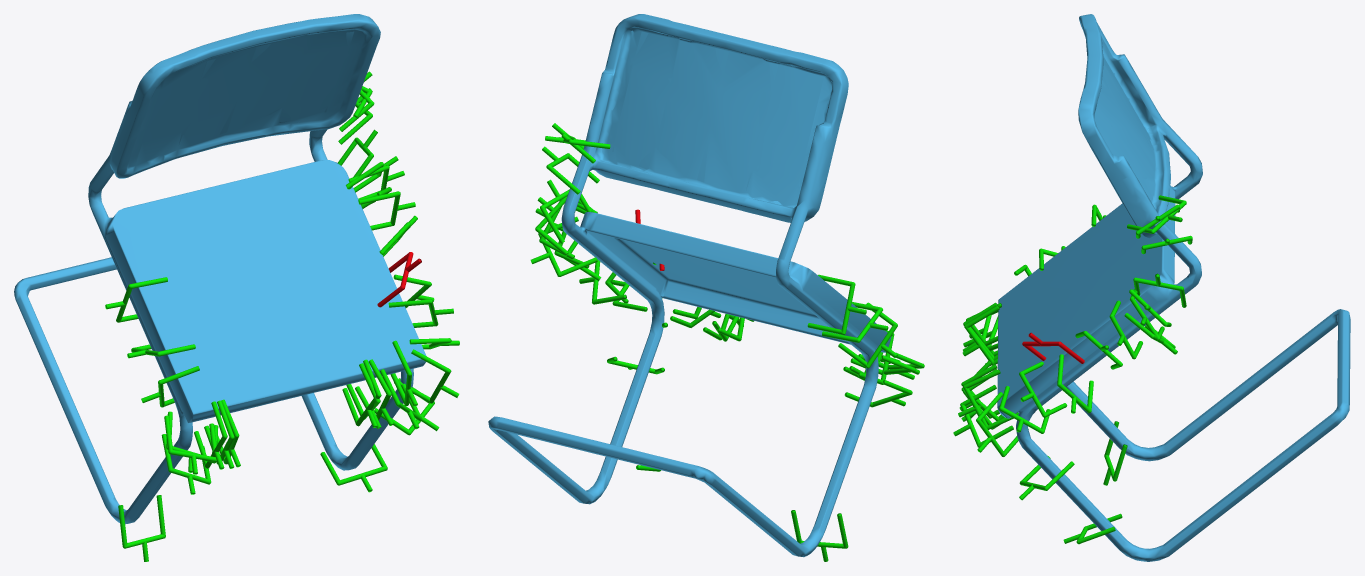
The model's file is ours_chair1.glb.
3 views of the same model, side by side, from view 1: azimuth 30°, elevation 25°; view 2: azimuth 150°, elevation 25°; view 3: azimuth 270°, elevation 25° (orthographic). The views are drawn at different scales.
Visible parts, largest first — view 1: mesh.001, gripper_45.001, gripper_44.001, gripper_7, gripper_27.001, gripper_1, gripper_36.001, gripper_15, gripper_47.001, gripper_57.001, gripper_0, gripper_41 (+2 smaller); view 2: mesh.001, gripper_57.001, gripper_57.003, gripper_57.002, gripper_45.001, gripper_18, gripper_2.001, gripper_54.001; view 3: mesh.001, gripper_47.001, gripper_10.001, gripper_1, gripper_21, gripper_0, gripper_25.001, gripper_43.001, gripper_42, gripper_50.001, gripper_45.001.
Boxes of the visible parts, x1,y1,x2,y2 form: mesh.001: [14, 14, 426, 523]; gripper_45.001: [118, 495, 165, 561]; gripper_44.001: [164, 415, 216, 474]; gripper_7: [320, 444, 387, 492]; gripper_27.001: [342, 359, 381, 427]; gripper_1: [394, 349, 459, 403]; gripper_36.001: [194, 401, 227, 469]; gripper_15: [358, 191, 415, 230]; gripper_47.001: [390, 340, 417, 406]; gripper_57.001: [105, 277, 167, 322]; gripper_0: [388, 299, 453, 327]; gripper_41: [161, 434, 211, 494]; mesh.001: [488, 14, 891, 557]; gripper_57.001: [807, 274, 866, 334]; gripper_57.003: [838, 302, 897, 368]; gripper_57.002: [822, 302, 888, 342]; gripper_45.001: [791, 510, 848, 561]; gripper_18: [530, 216, 597, 276]; gripper_2.001: [540, 179, 591, 243]; gripper_54.001: [542, 146, 599, 194]; mesh.001: [997, 14, 1350, 561]; gripper_47.001: [958, 369, 1018, 429]; gripper_10.001: [953, 385, 1013, 447]; gripper_1: [976, 392, 1028, 456]; gripper_21: [1057, 354, 1093, 413]; gripper_0: [1019, 361, 1067, 417]; gripper_25.001: [1022, 332, 1084, 363]; gripper_43.001: [962, 305, 999, 365]; gripper_42: [1019, 455, 1074, 500]; gripper_50.001: [999, 386, 1049, 433]; gripper_45.001: [1103, 421, 1127, 485].
Bounding box in the file's own units: 8.95 × 13.66 × 10.3.
